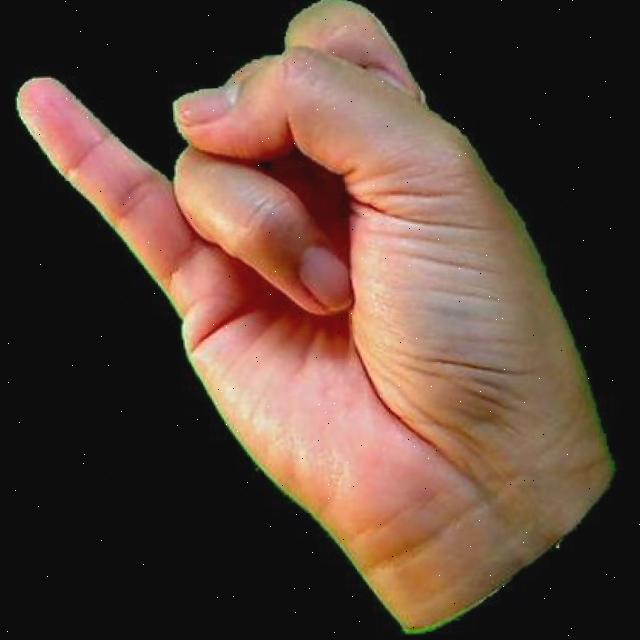j: (4, 0, 629, 640)
